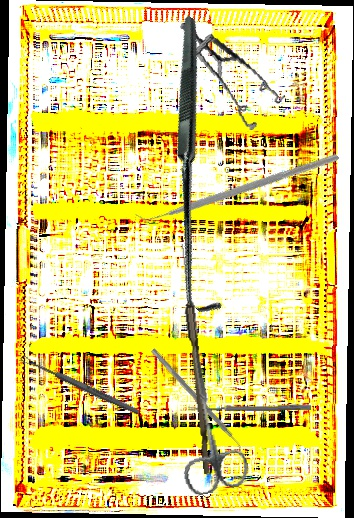Chopper: (131, 77, 340, 292)
Hook Surgical: (46, 14, 352, 321)
Iris Scissors: (160, 341, 252, 498)
Spatula Surgical: (146, 348, 248, 455)
Speculum: (179, 7, 290, 140)
Surgical Spoon: (175, 243, 216, 474), (19, 353, 141, 417), (187, 403, 312, 413)
